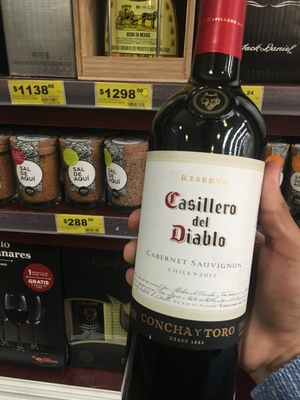casillero del diablo cabernet sauvignon: (124, 13, 276, 400)
